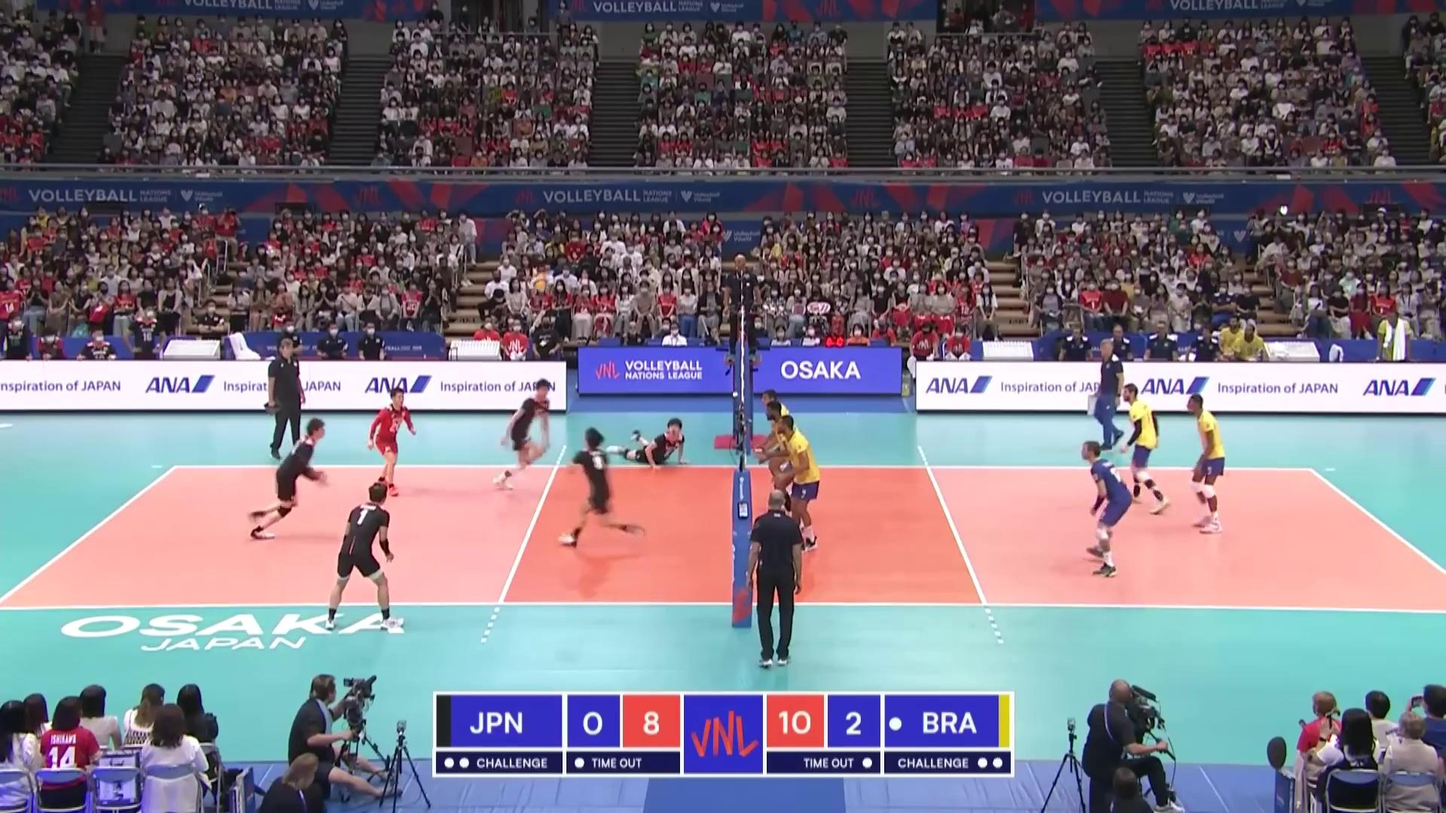player: (319, 481, 405, 633), (559, 428, 645, 548), (248, 418, 328, 540), (1081, 441, 1132, 578), (491, 379, 551, 492), (776, 414, 822, 551), (1122, 383, 1168, 516), (765, 402, 808, 528), (1188, 394, 1226, 532), (369, 388, 416, 495), (759, 388, 801, 507), (605, 418, 690, 470)
refree: (747, 488, 804, 668), (724, 252, 759, 366)
